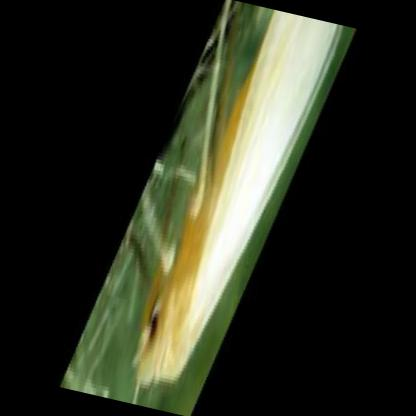whitefly: (133, 16, 344, 386)
